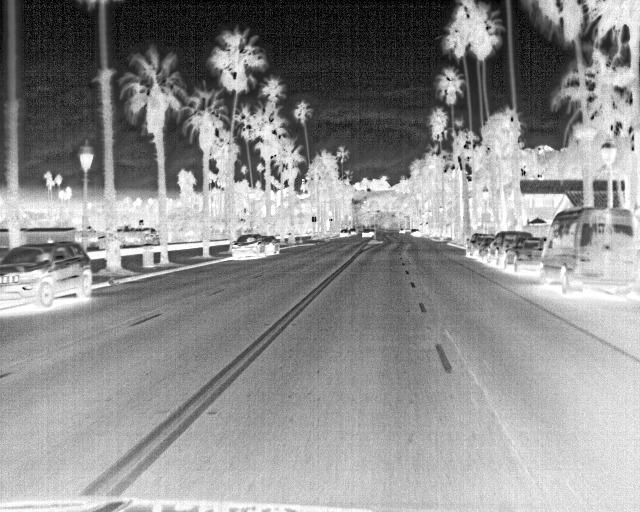car: (533, 206, 635, 294), (3, 240, 93, 312), (482, 229, 533, 263), (506, 238, 542, 273), (227, 235, 269, 259), (466, 237, 488, 259), (261, 234, 281, 256), (360, 228, 376, 239), (337, 227, 348, 239), (347, 227, 358, 236)
